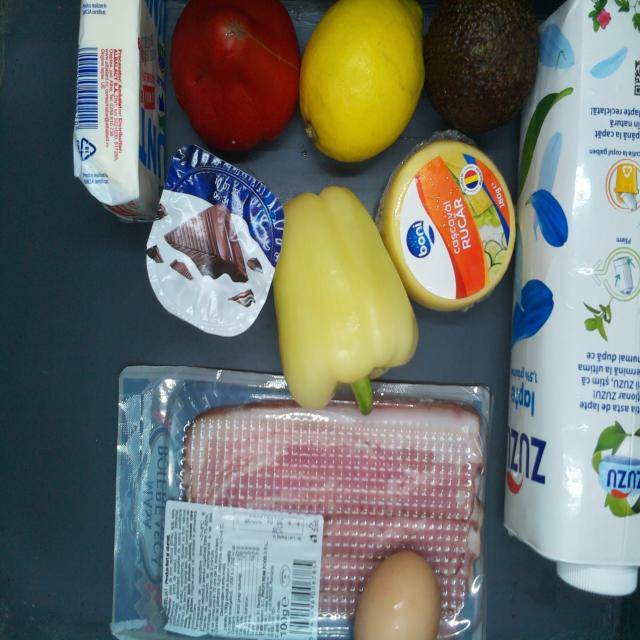avocado: (426, 0, 540, 132)
bacon: (119, 369, 493, 640)
butter: (76, 0, 169, 220)
cheese: (380, 142, 519, 312)
eggs: (354, 551, 439, 640)
lemon: (304, 0, 424, 161)
milk: (506, 1, 640, 598)
pepper: (281, 186, 420, 412)
tomatoes: (173, 3, 301, 148)
yogurt: (150, 146, 284, 341)
